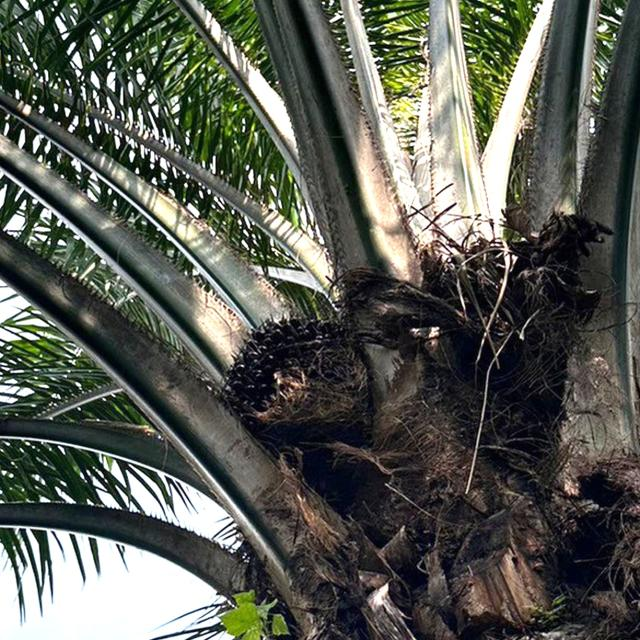almost: (206, 307, 374, 429)
